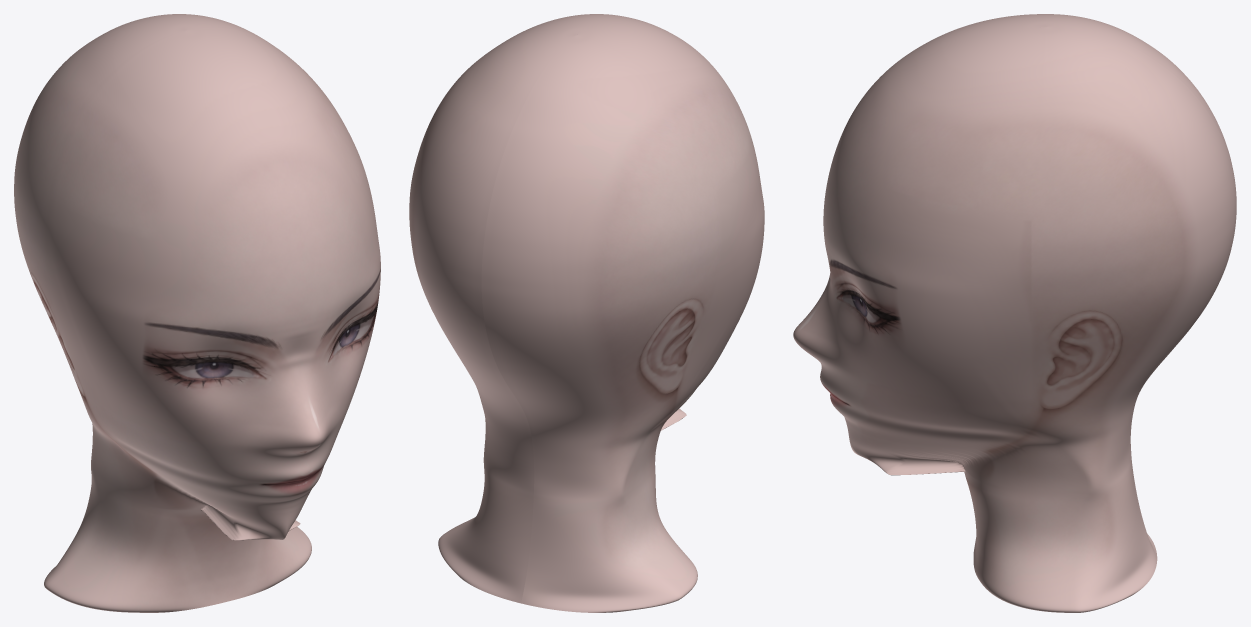
3 renders of one model, left to right at view 1: azimuth 30°, elevation 25°; view 2: azimuth 150°, elevation 25°; view 3: azimuth 270°, elevation 25°, orthographic. The views are drawn at different scales.
Visible parts, largest first — view 1: Head; view 2: Head; view 3: Head.
Part boxes in pixels (bbox=[...]): Head: bbox=[14, 14, 380, 612]; Head: bbox=[409, 14, 764, 612]; Head: bbox=[793, 14, 1236, 612].
Bounding box in the file's own units: 0.1636 × 0.2916 × 0.2205.
Materials: 1 (1 with a texture image).
